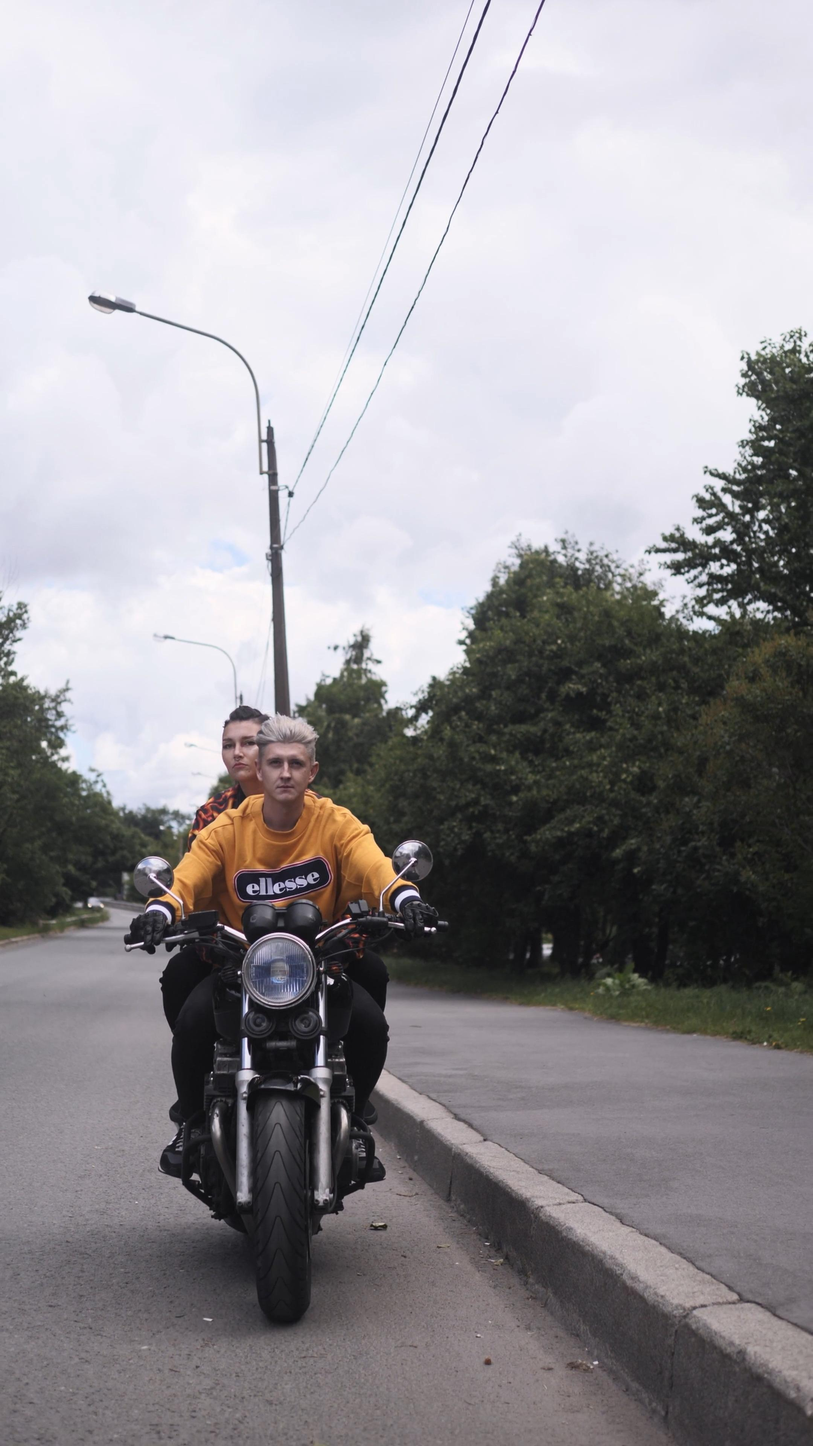driver: (121, 702, 449, 1327)
no-helmet: (255, 714, 319, 802), (222, 704, 268, 782)
